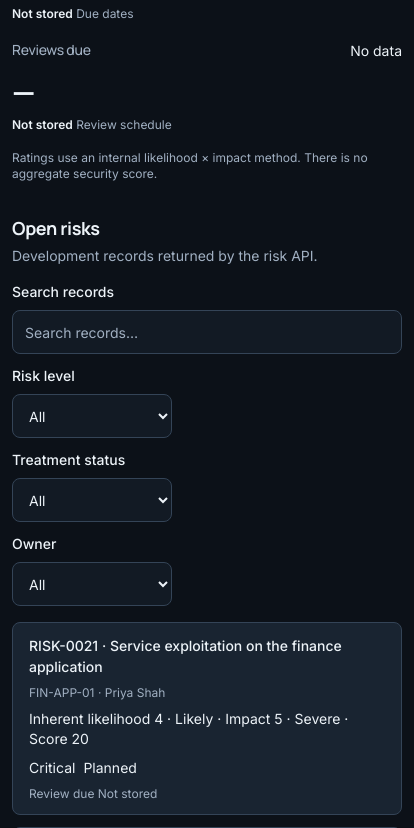
Test: Risk page › maps risk filters to backend query parameters
(page scrolled)
Select "Critical" in the dropdown labelled "Risk level" at (92, 416), box top-left (12, 394), bottom-right (172, 438)
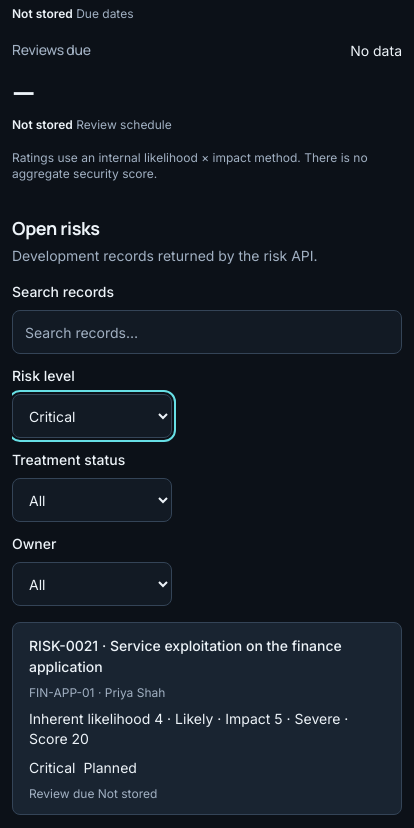
Expected: the text "RISK-0021 · Service exploitation on the finance application" is shown, top-left (29, 635), bottom-right (385, 677)
Expected: no buttons "RISK-0002" are shown
